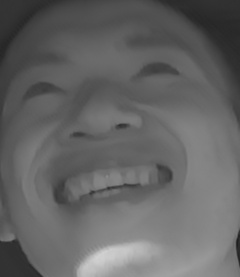eye: (130, 54, 182, 85), (20, 72, 68, 104)
mouth: (45, 151, 178, 218)
